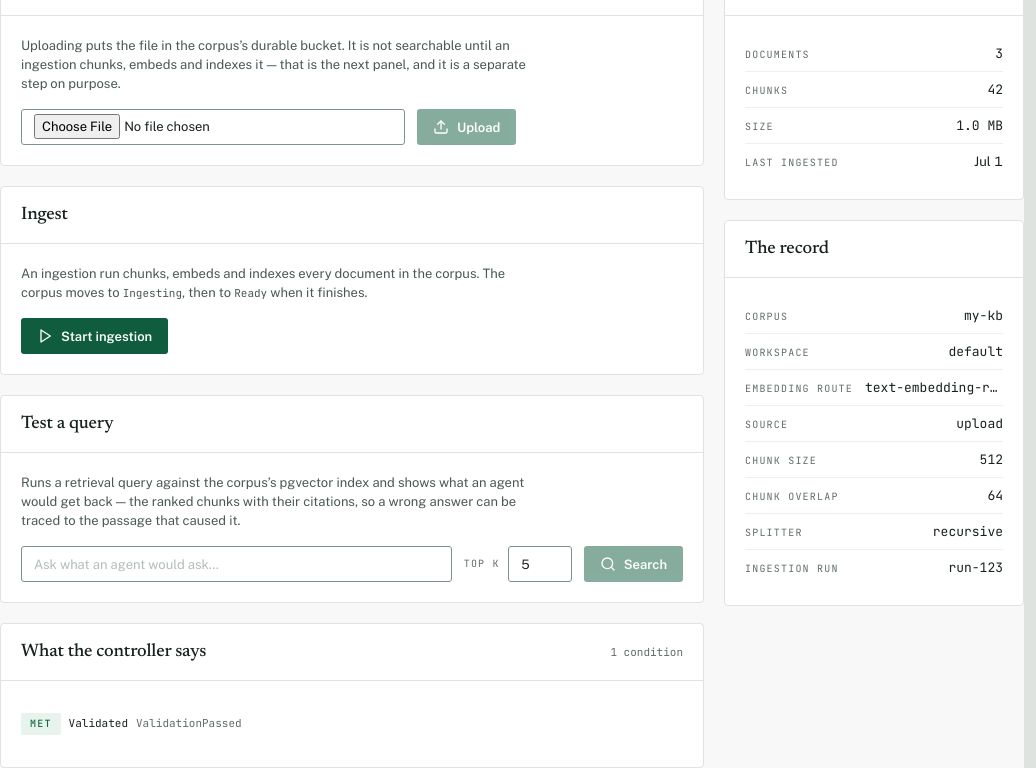
Scenario: KBDetailPage — test-query panel (m68.13) › 501 from search → calm unavailable state (not an error toast)
The image size is (1036, 768).
(page scrolled)
Type "test query" into the field with test id "query-input" at (236, 564), box 21,546 -> 452,582
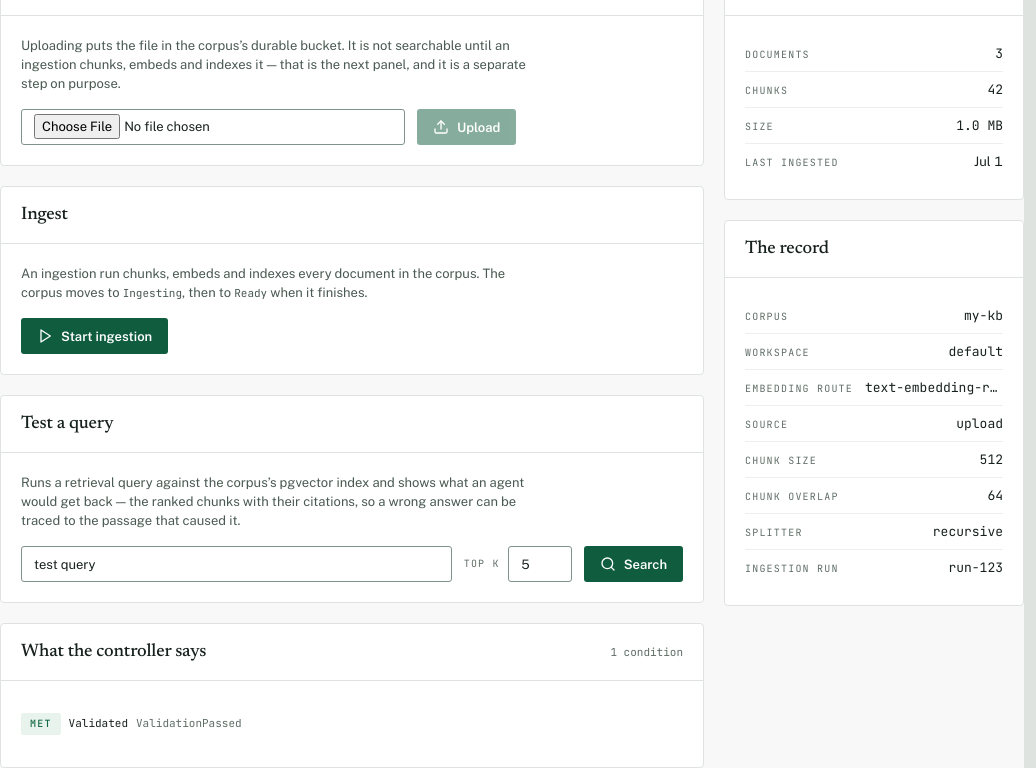
Click the button with test id "query-submit" at (633, 564), box 584,546 -> 683,582
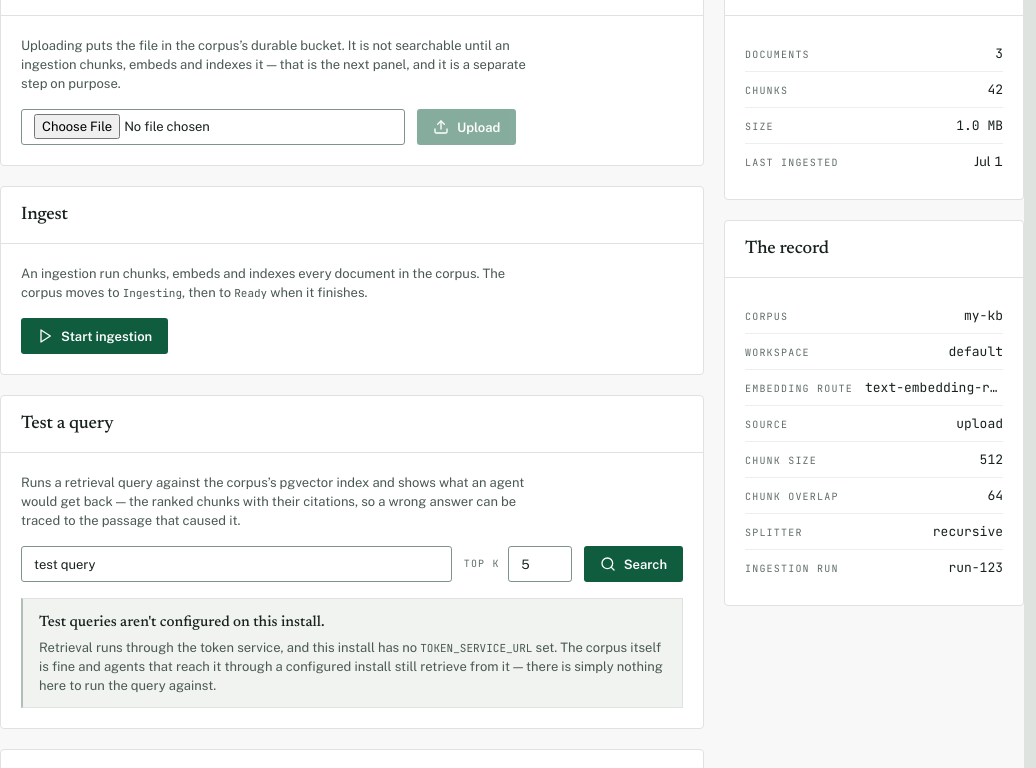
Expected: the element with test id "query-unavailable" is shown, 21,598 -> 683,708
